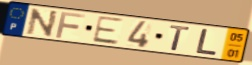4: (127, 20, 151, 49)
E: (90, 14, 124, 46)
F: (54, 10, 88, 39)
L: (194, 28, 219, 57)
N: (26, 7, 61, 38)
T: (168, 24, 192, 52)
